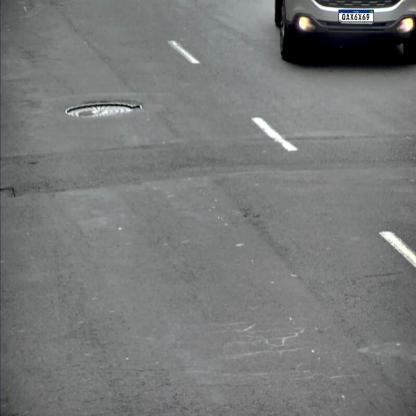PlacaM: (338, 10, 374, 22)
